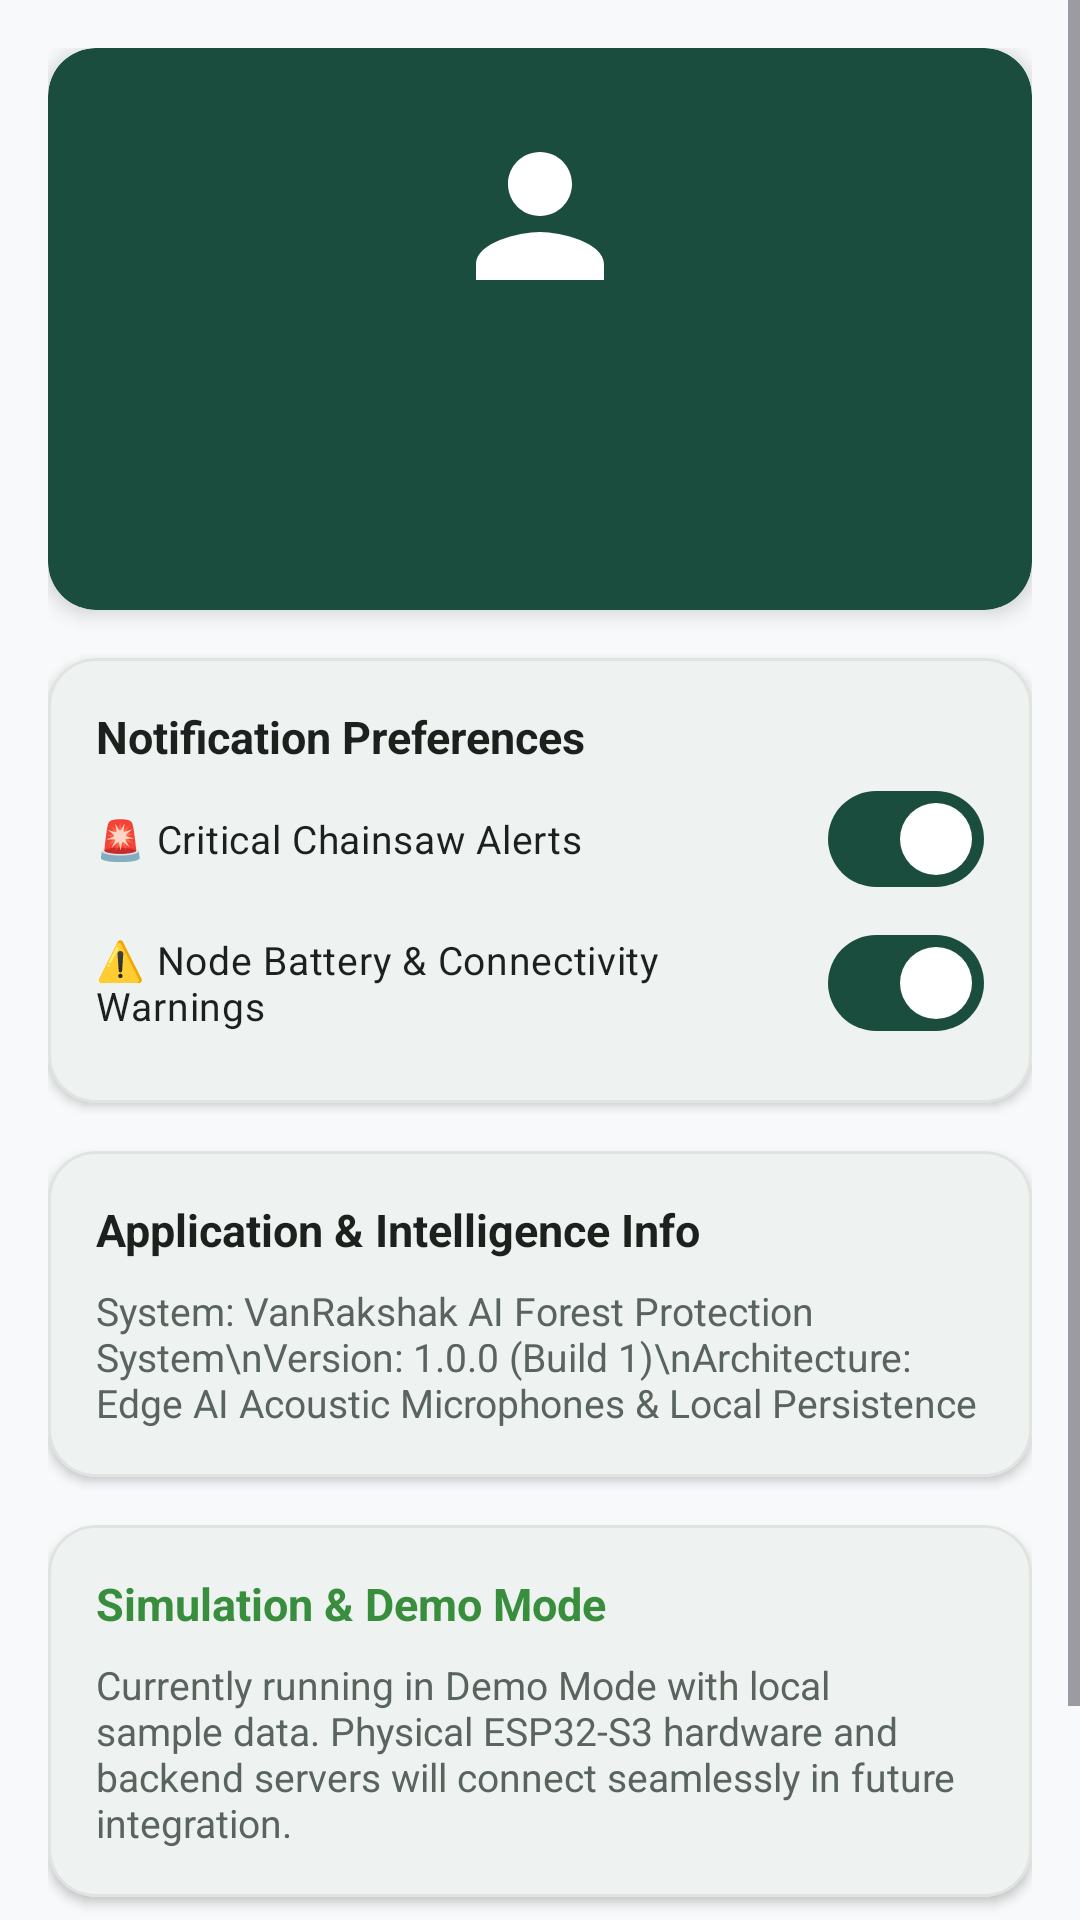

Icons on this 1080 x 1920 Android screen, each with the point to tap as (x,y):
person: (540,216)
